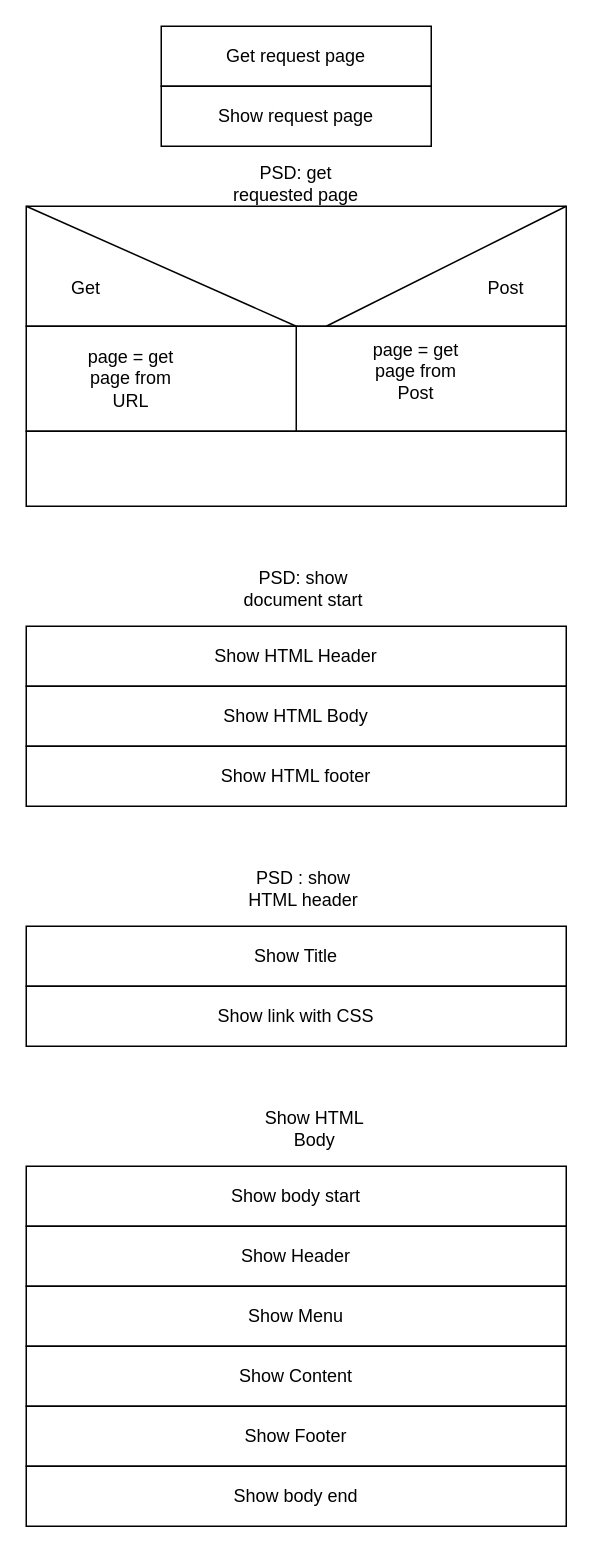
Some shapes in this 594 by 1553 pixel diagram are drawn without their labels. The shapes that lost their labels are listed below. From the top down, each one's box as (x1, y1, x2, y2) in pixels, then its label:
(25, 205, 566, 326): Request type
(25, 430, 566, 506): Return Page
